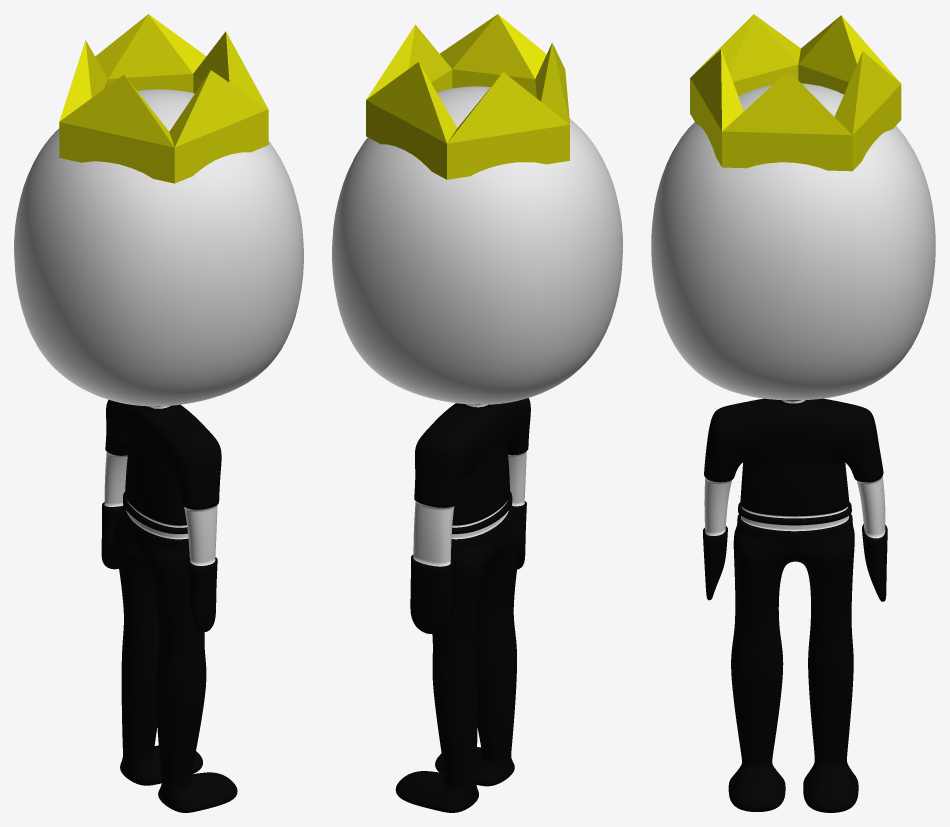
The model's file is корол.fbx.
3 renders of one model, left to right at view 1: azimuth 30°, elevation 25°; view 2: azimuth 150°, elevation 25°; view 3: azimuth 270°, elevation 25°, orthographic.
Parts seen in each view (by area): view 1: Cube, Cylinder; view 2: Cube, Cylinder; view 3: Cube, Cylinder.
Part boxes in pixels (<box>): Cube: <box>14,89,303,812</box>; Cylinder: <box>59,14,268,183</box>; Cube: <box>332,86,622,812</box>; Cylinder: <box>366,14,569,179</box>; Cube: <box>651,83,935,812</box>; Cylinder: <box>690,14,901,171</box>.
Bounding box in the file's own units: 71.55 × 208 × 71.55.
